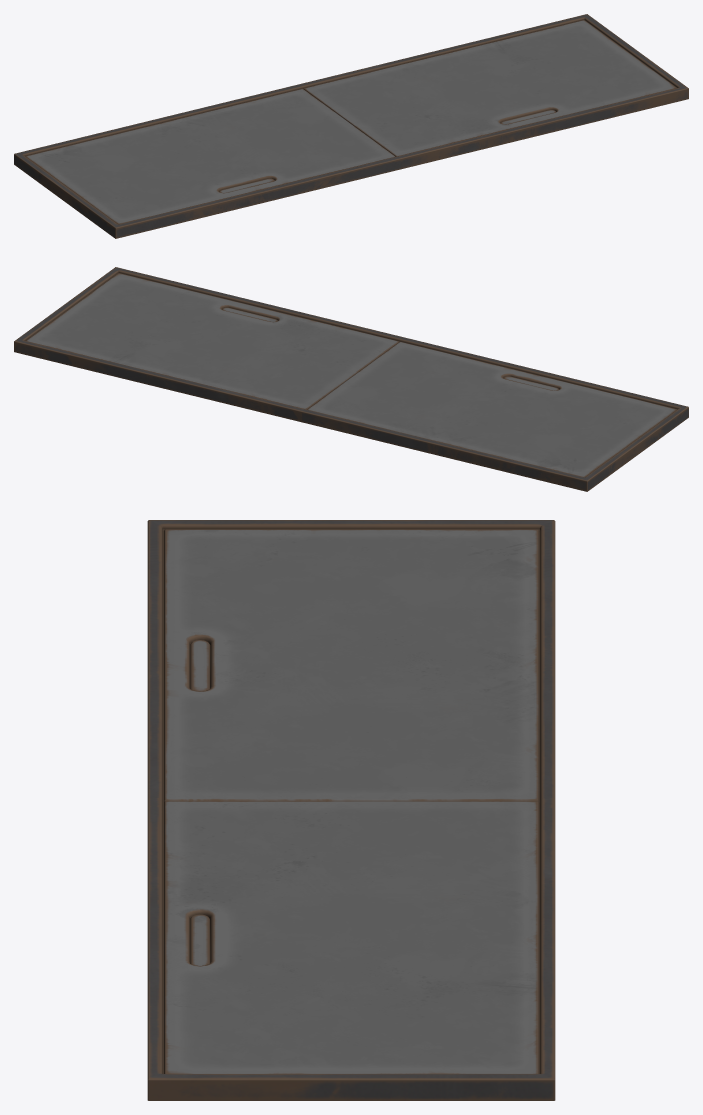
File: SM_RoomStyle_Floor05.fbx
3 views of the same model, one above another, from view 1: azimuth 30°, elevation 25°; view 2: azimuth 150°, elevation 25°; view 3: azimuth 270°, elevation 25° (orthographic). The views are drawn at different scales.
Visible parts, largest first — view 1: SM_RoomStyle_Floor05_LOD0; view 2: SM_RoomStyle_Floor05_LOD0; view 3: SM_RoomStyle_Floor05_LOD0.
Part boxes in pixels (x1=…): SM_RoomStyle_Floor05_LOD0: x1=14, y1=14, x2=688, y2=238; SM_RoomStyle_Floor05_LOD0: x1=14, y1=267, x2=688, y2=491; SM_RoomStyle_Floor05_LOD0: x1=147, y1=520, x2=555, y2=1100.
Size of the model in its own units: 260 by 80 by 4.67.
2 materials, 1 textured.
